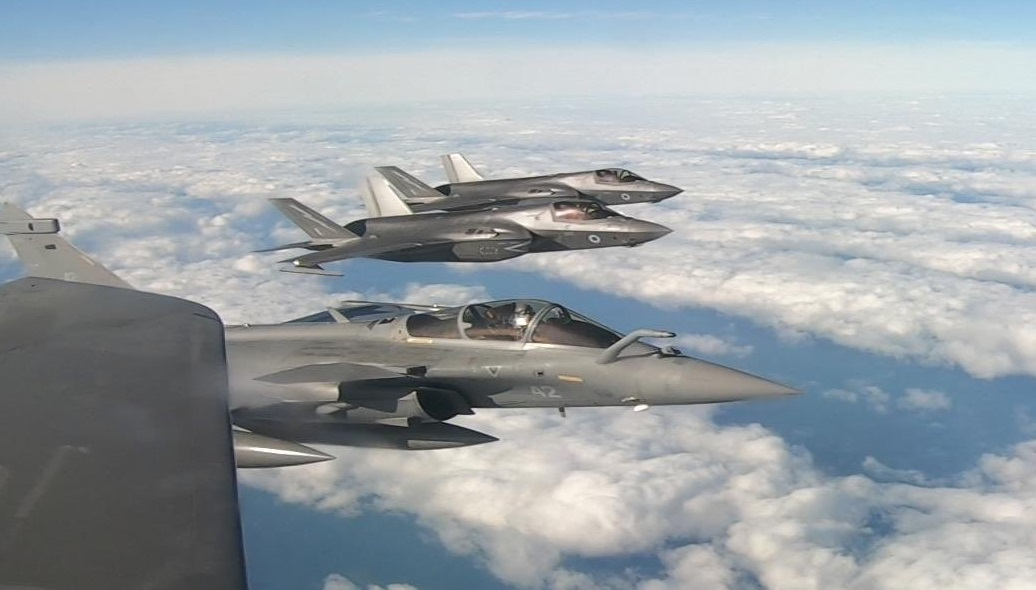F35: (256, 191, 679, 283), (373, 149, 685, 210)
Rafale: (0, 198, 811, 470)
